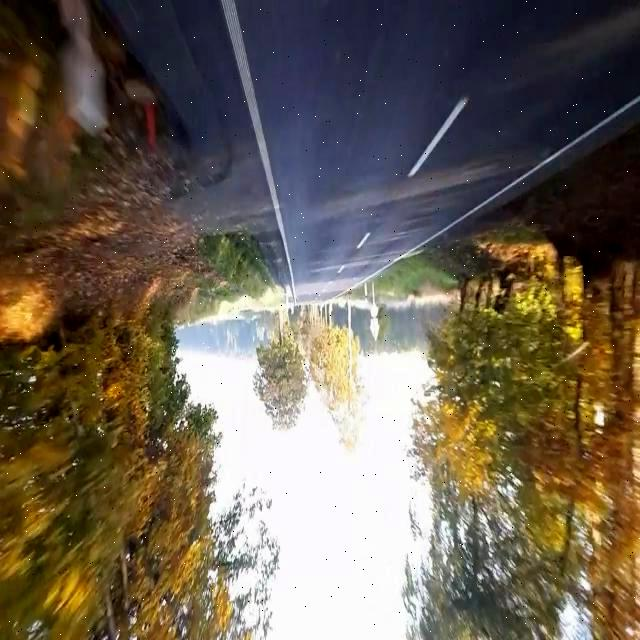lane: (362, 94, 639, 281), (221, 0, 296, 300), (408, 97, 469, 178)
road: (235, 1, 640, 302), (104, 1, 277, 233)
